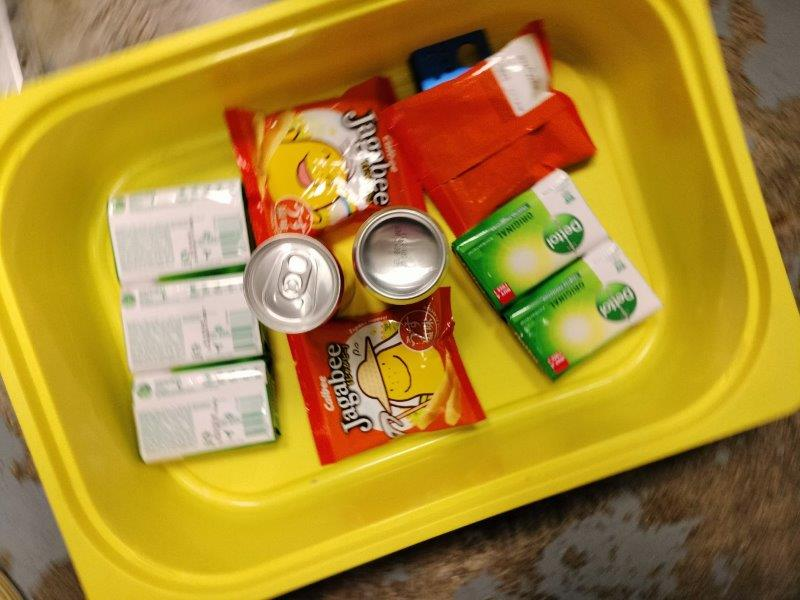Coke: (351, 209, 451, 303), (245, 235, 343, 328)
Dettol: (452, 171, 607, 307), (504, 240, 660, 375), (106, 179, 249, 277), (137, 361, 277, 461), (122, 275, 248, 365)
Jagabee: (379, 26, 601, 234), (283, 293, 488, 460), (228, 95, 420, 235)
